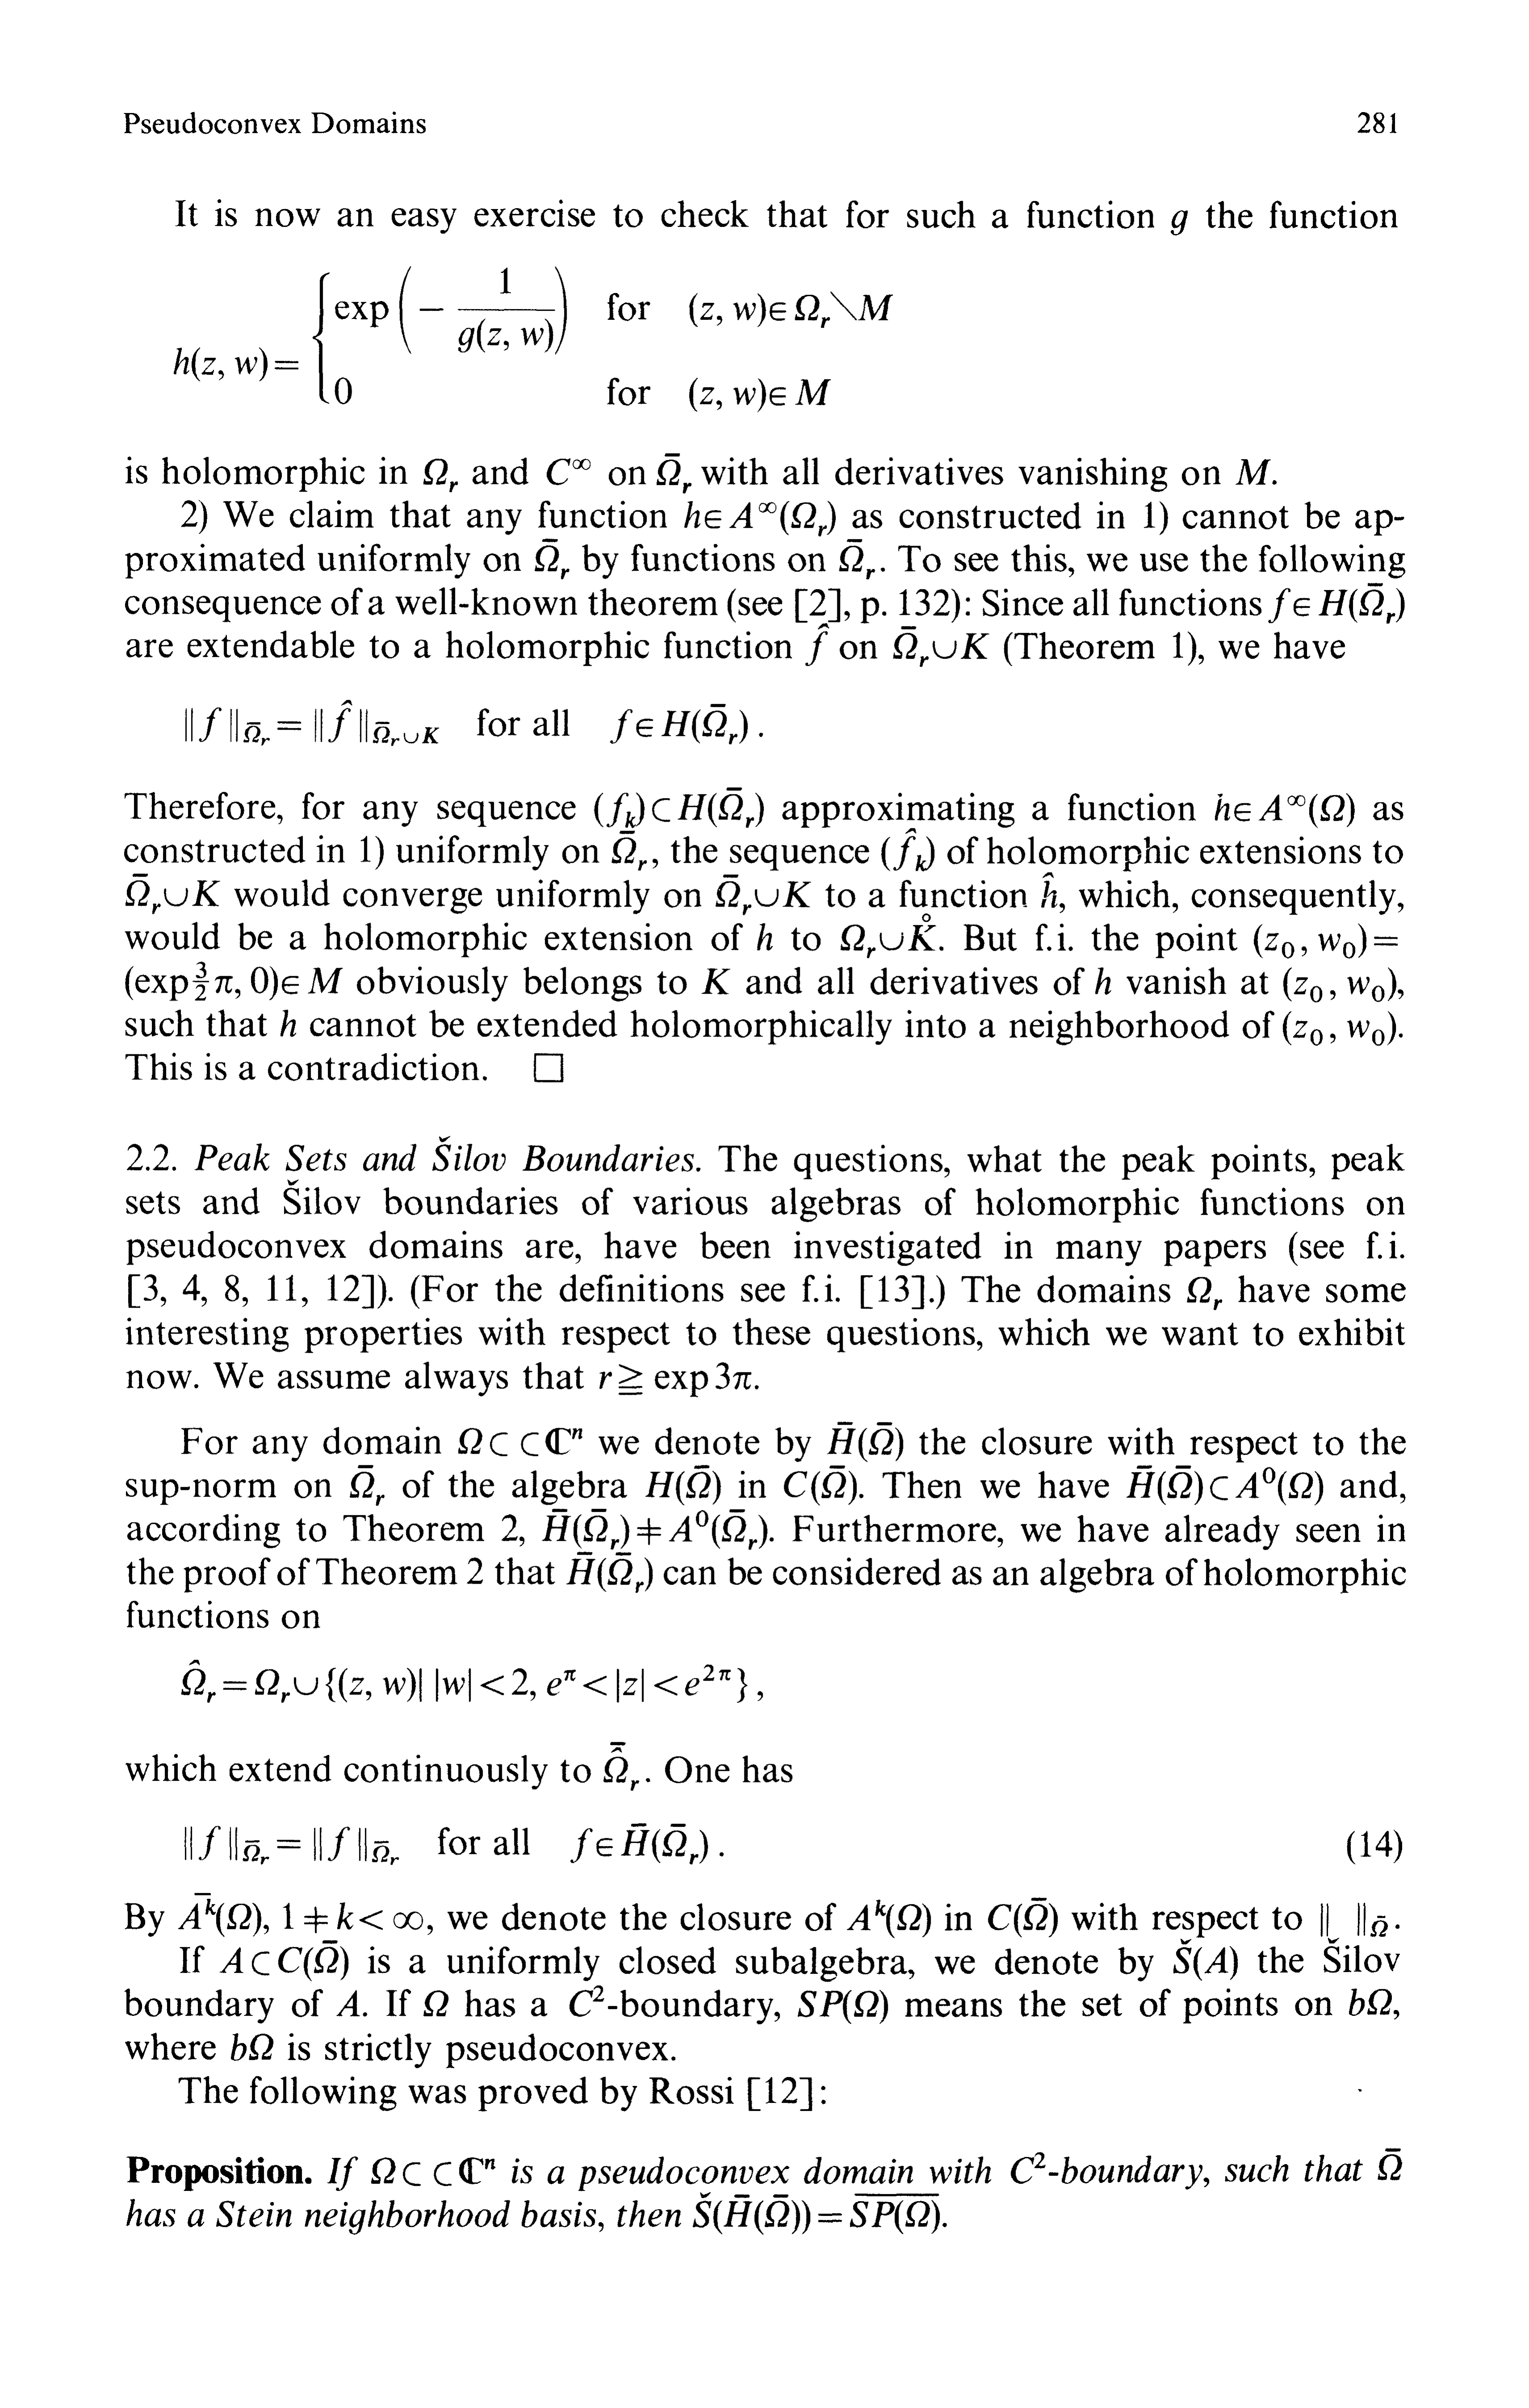maths: (174, 267, 894, 412), (181, 1660, 746, 1702), (191, 700, 439, 746), (693, 2192, 946, 2234), (542, 1509, 767, 1550), (125, 962, 342, 1000), (190, 1825, 398, 1864), (1127, 1466, 1324, 1506), (593, 788, 764, 827), (609, 704, 748, 744), (1267, 583, 1404, 623), (571, 1824, 707, 1864), (599, 1362, 751, 1397), (685, 500, 836, 535), (219, 1941, 348, 1982), (1253, 923, 1397, 958), (1215, 793, 1355, 827), (841, 913, 936, 958), (1174, 1911, 1238, 1980), (283, 1903, 423, 1932), (1283, 967, 1396, 1002), (177, 1894, 269, 1936), (894, 627, 988, 667), (125, 874, 219, 914), (716, 874, 811, 914), (1283, 1011, 1396, 1044), (458, 1427, 581, 1457), (370, 2157, 495, 2185), (567, 1552, 653, 1592), (848, 1899, 930, 1938), (827, 1422, 902, 1462), (799, 1990, 888, 2024), (646, 1466, 720, 1506), (785, 1466, 857, 1506), (988, 1897, 1057, 1938), (881, 828, 934, 871), (604, 1743, 639, 1790), (1348, 1989, 1399, 2018), (569, 1985, 616, 2017), (657, 453, 692, 493), (534, 539, 569, 579), (839, 539, 874, 579), (611, 830, 646, 871), (349, 1466, 384, 1506), (546, 458, 590, 484), (423, 458, 456, 491), (1187, 1278, 1222, 1309), (1011, 2152, 1046, 2183), (232, 2034, 272, 2060), (1357, 1903, 1387, 1936), (806, 623, 829, 665), (1236, 460, 1271, 484), (337, 1990, 367, 2017), (1378, 2148, 1403, 2180), (702, 969, 730, 993), (423, 1990, 448, 2017), (1041, 872, 1057, 907), (757, 923, 772, 950), (1095, 967, 1111, 993), (1171, 211, 1187, 235), (281, 1009, 295, 1036), (1320, 1903, 1329, 1936)
